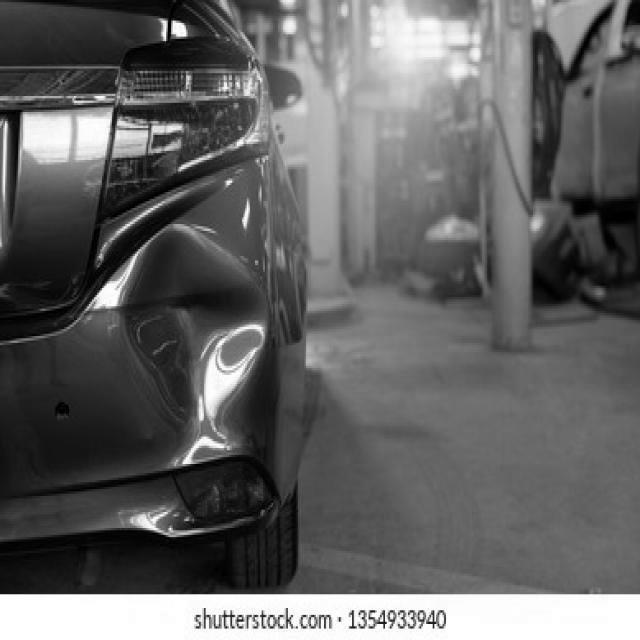rear-bumper-dent: (117, 224, 271, 436)
